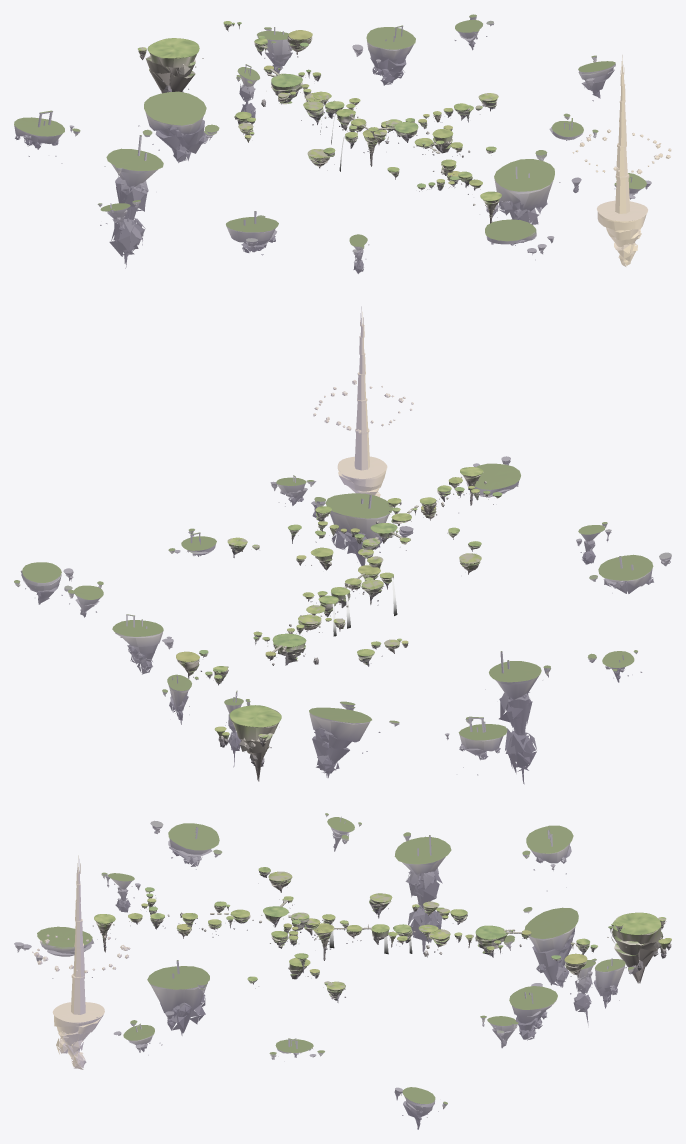
The model's file is world.glb.
3 views of the same model, one above another, from view 1: azimuth 30°, elevation 25°; view 2: azimuth 150°, elevation 25°; view 3: azimuth 270°, elevation 25° (orthographic). The views are drawn at different scales.
Visible parts, largest first — view 1: distant__haze, islands__grass (×2), islands__rock (×2), landmark__spire, distant__l1__rock, distant__l1__grass; view 2: distant__haze, islands__grass (×2), islands__rock (×2), landmark__spire, distant__l1__rock, distant__l1__grass; view 3: distant__haze, islands__grass (×2), islands__rock (×2), landmark__spire, distant__l1__rock, distant__l1__grass.
Boxes of the visible parts, bbox=[...] form: distant__haze: bbox=[14, 14, 651, 273]; islands__grass (×2): bbox=[223, 21, 501, 201]; islands__rock (×2): bbox=[224, 24, 499, 223]; landmark__spire: bbox=[597, 55, 647, 266]; distant__l1__rock: bbox=[138, 49, 203, 93]; distant__l1__grass: bbox=[138, 38, 199, 58]; distant__haze: bbox=[14, 456, 671, 784]; islands__grass (×2): bbox=[176, 467, 502, 678]; islands__rock (×2): bbox=[176, 472, 501, 685]; landmark__spire: bbox=[337, 306, 387, 497]; distant__l1__rock: bbox=[216, 708, 280, 781]; distant__l1__grass: bbox=[214, 705, 281, 737]; distant__haze: bbox=[14, 813, 634, 1129]; islands__grass (×2): bbox=[94, 867, 623, 990]; islands__rock (×2): bbox=[93, 870, 624, 1002]; landmark__spire: bbox=[52, 855, 104, 1069]; distant__l1__rock: bbox=[607, 915, 671, 983]; distant__l1__grass: bbox=[613, 912, 671, 943].
Size of the model in its own units: 425 by 191 by 428.
